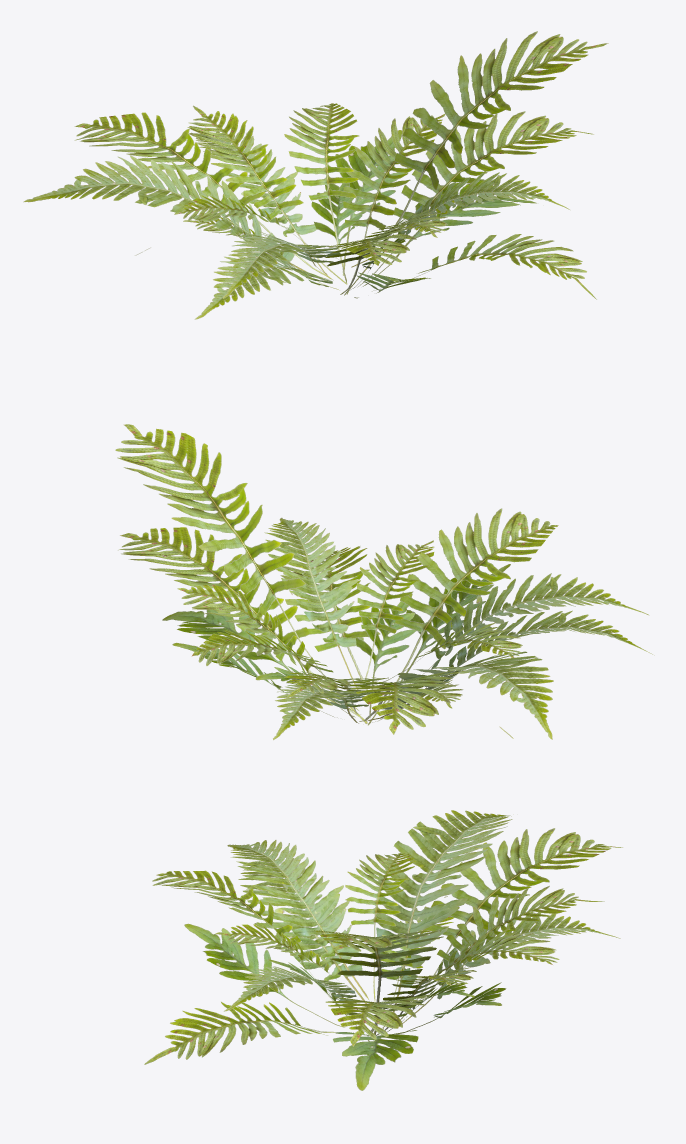
The model's file is bush.obj.
3 views of the same model, one above another, from view 1: azimuth 30°, elevation 25°; view 2: azimuth 150°, elevation 25°; view 3: azimuth 270°, elevation 25° (orthographic). The views are drawn at different scales.
Visible parts, largest first — view 1: Plane; view 2: Plane; view 3: Plane.
Boxes of the visible parts, <box> form: Plane: <box>23,31,608,319</box>; Plane: <box>115,424,654,740</box>; Plane: <box>144,810,622,1090</box>.
Size of the model in its own units: 11.8 by 3.99 by 11.28.
1 material, 1 textured.
